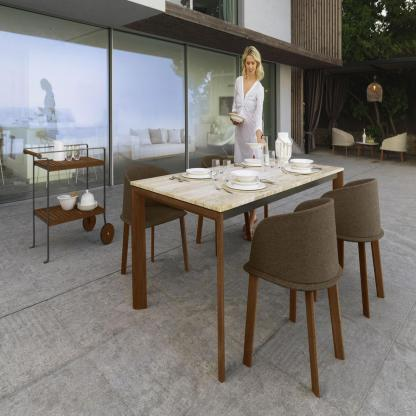table: (127, 150, 346, 386), (351, 134, 380, 164)
